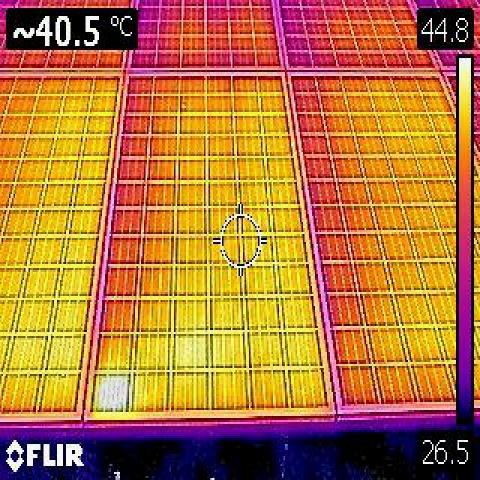fault: (90, 371, 132, 412)
